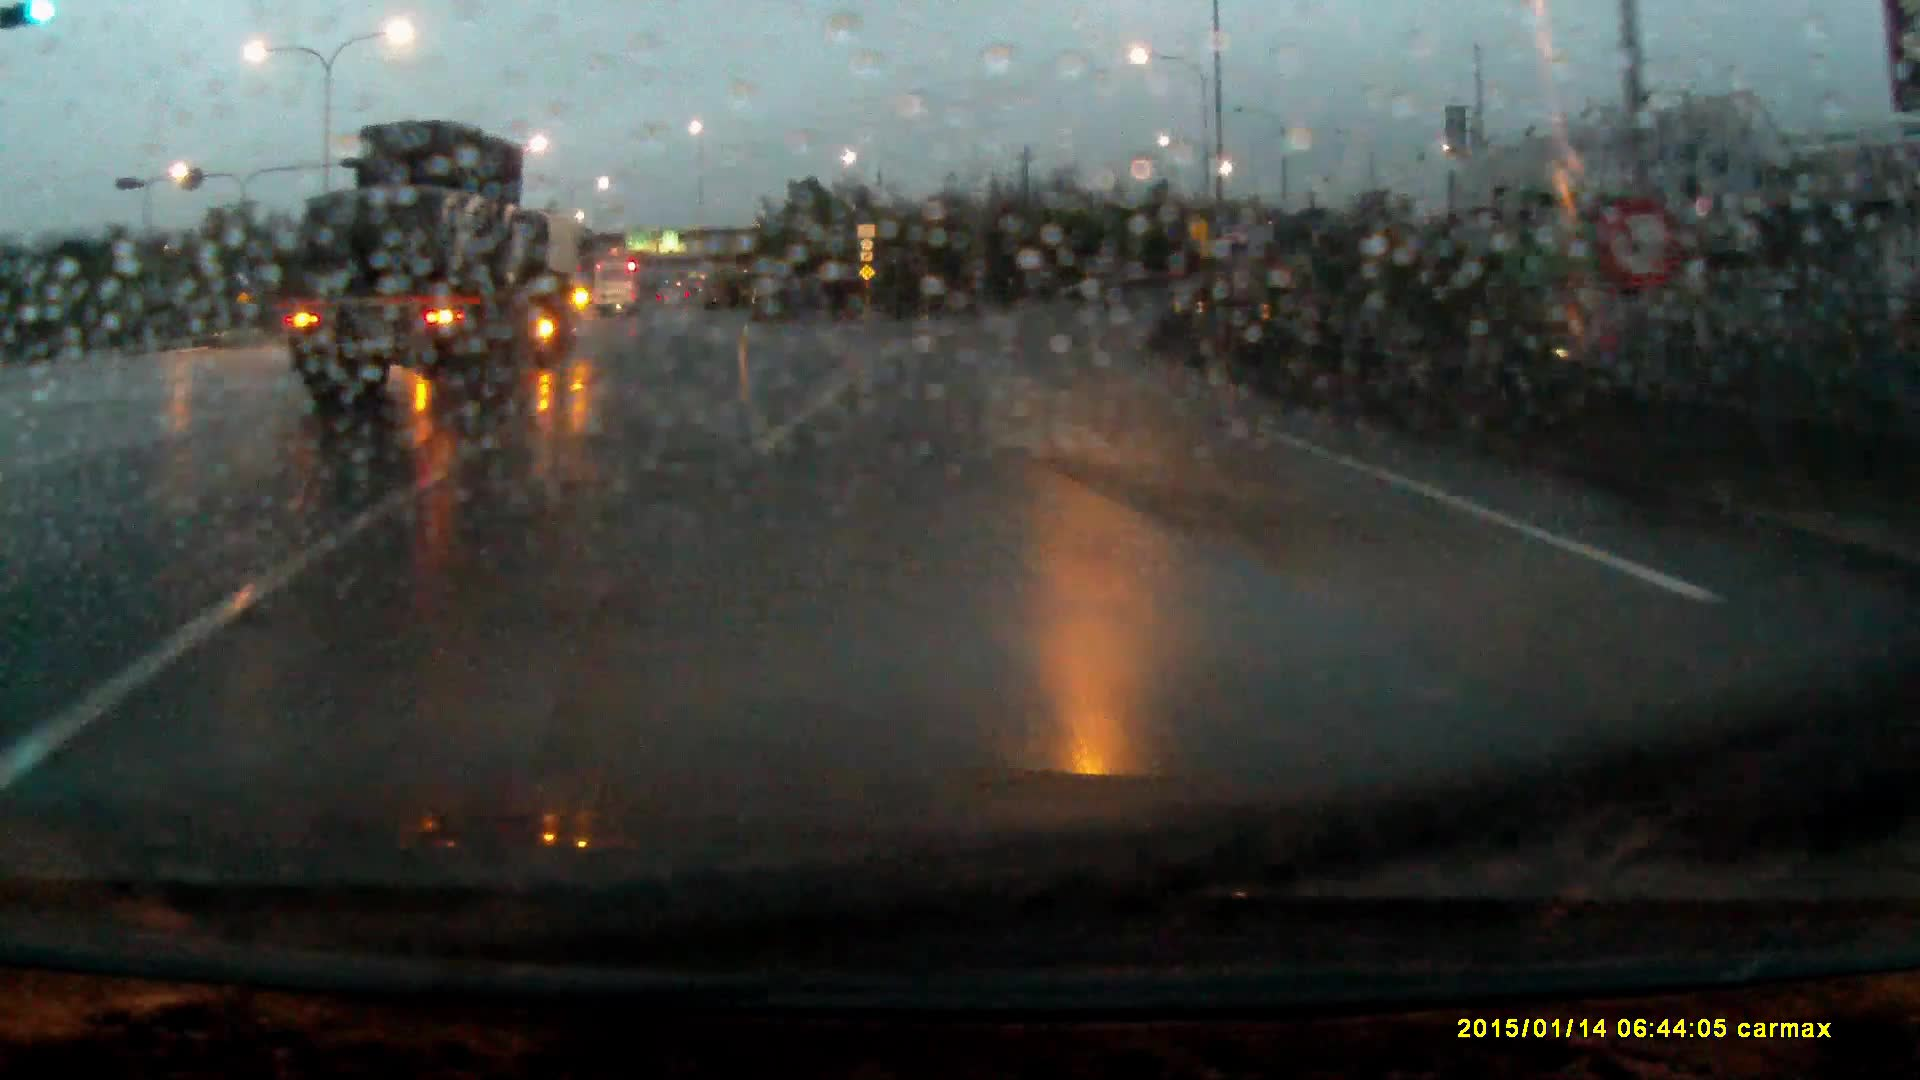vehicle: (281, 127, 591, 418), (595, 264, 651, 320)
